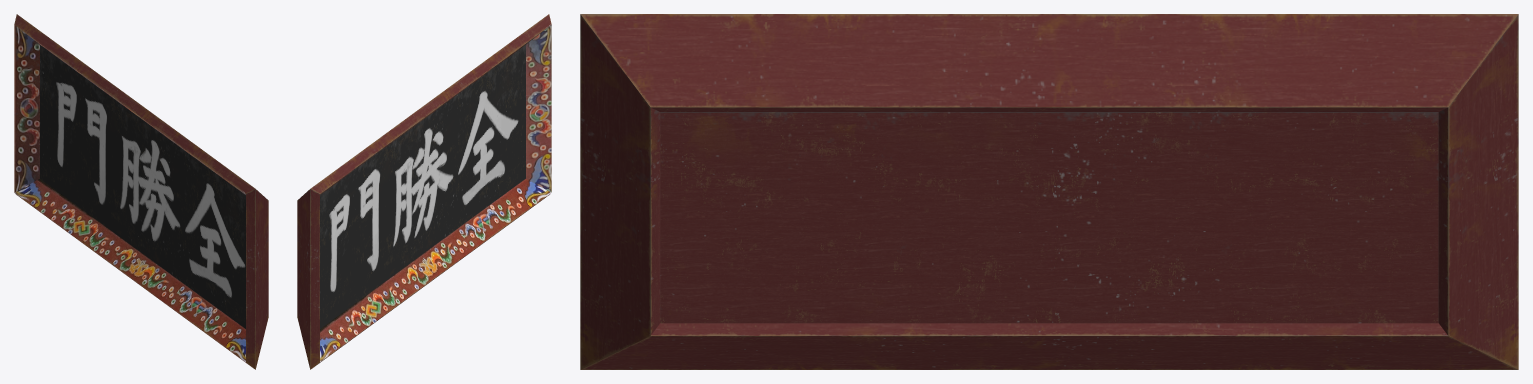
File: SM_JSG_Signboard01d.fbx
3 renders of one model, left to right at view 1: azimuth 30°, elevation 25°; view 2: azimuth 150°, elevation 25°; view 3: azimuth 270°, elevation 25°, orthographic. The views are drawn at different scales.
Visible parts, largest first — view 1: SM_JSG_Signboard01d; view 2: SM_JSG_Signboard01d; view 3: SM_JSG_Signboard01d.
Part boxes in pixels (bbox=[...]): SM_JSG_Signboard01d: bbox=[14, 14, 268, 369]; SM_JSG_Signboard01d: bbox=[297, 14, 551, 369]; SM_JSG_Signboard01d: bbox=[580, 14, 1518, 369].
Size of the model in its own units: 16.97 by 189 by 78.97.
Materials: 1 (1 with a texture image).
